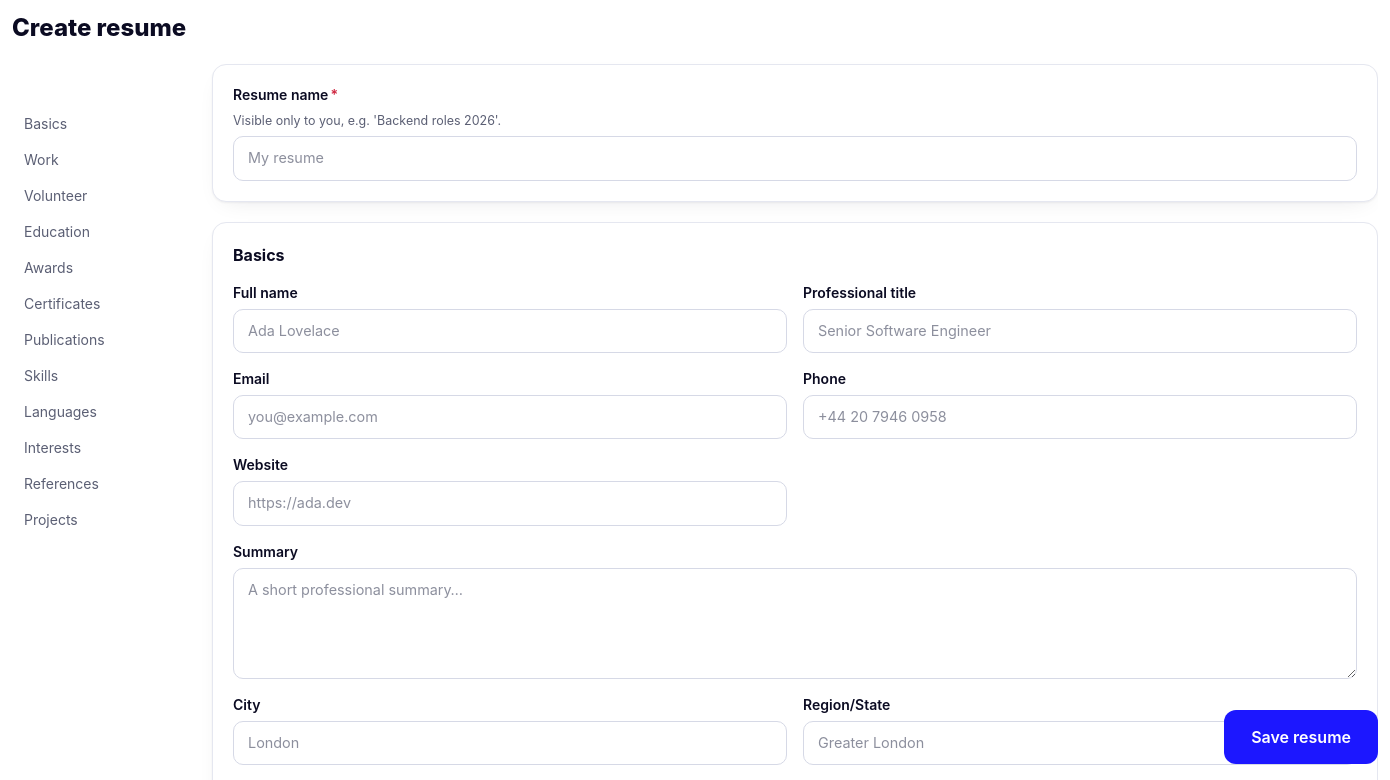
Test case: create flow (issue #69 / 8.5) › duplicate name 409 maps onto the resumeName field
This screenshot has width=1390, height=780.
Type "Taken" into the field labelled "Resume name*" at (795, 158), box [233,136,1357,181]
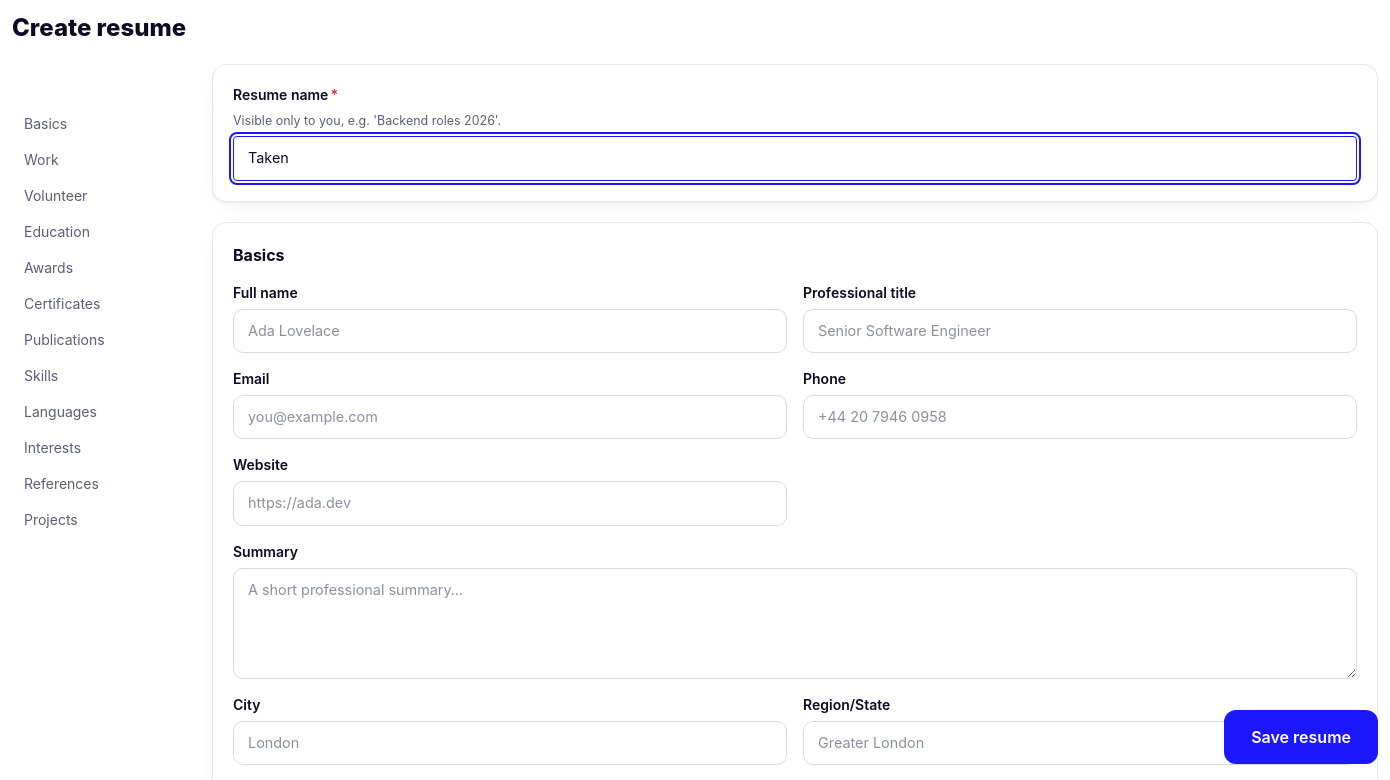
Click the button "Save resume" at (1301, 737), box [1224,710,1378,764]
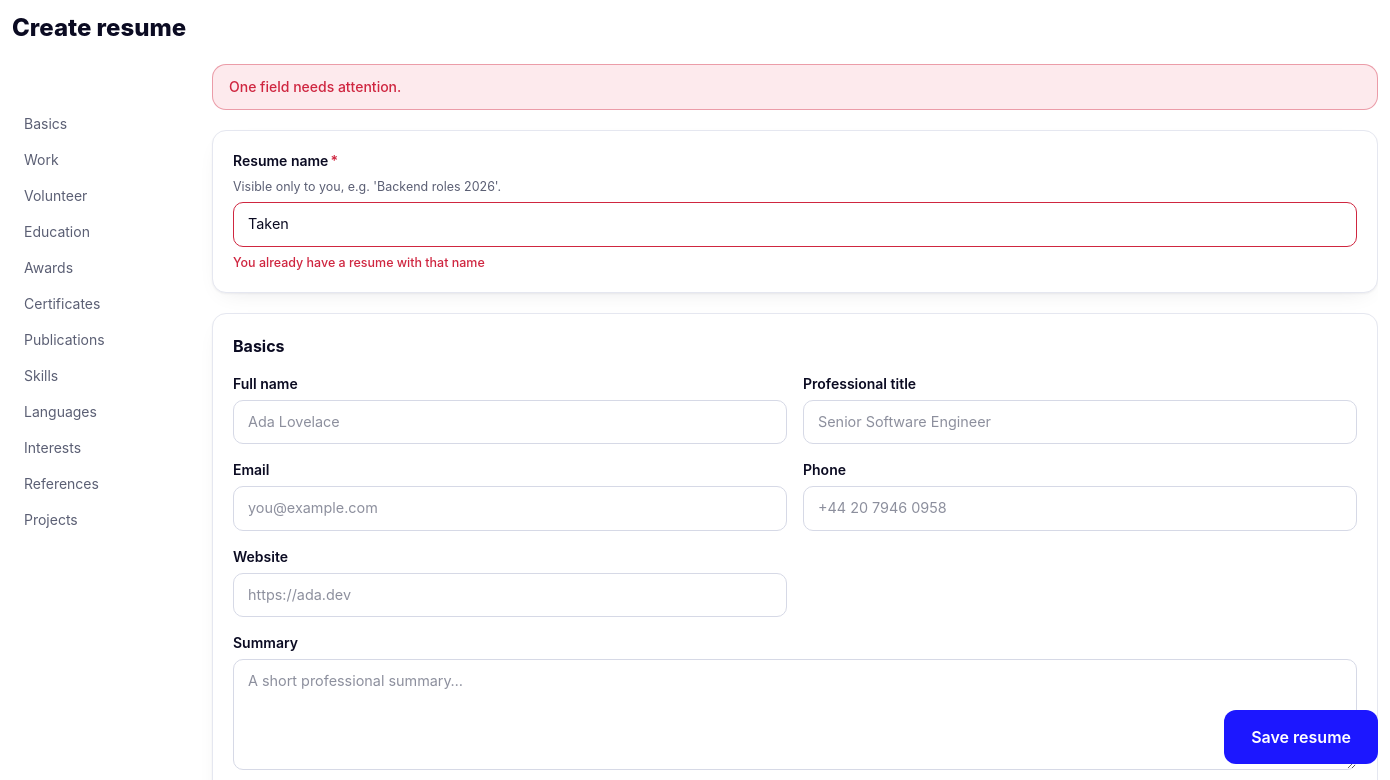
Now the text "You already have a resume with that name" is shown, box [233,255,485,270]
